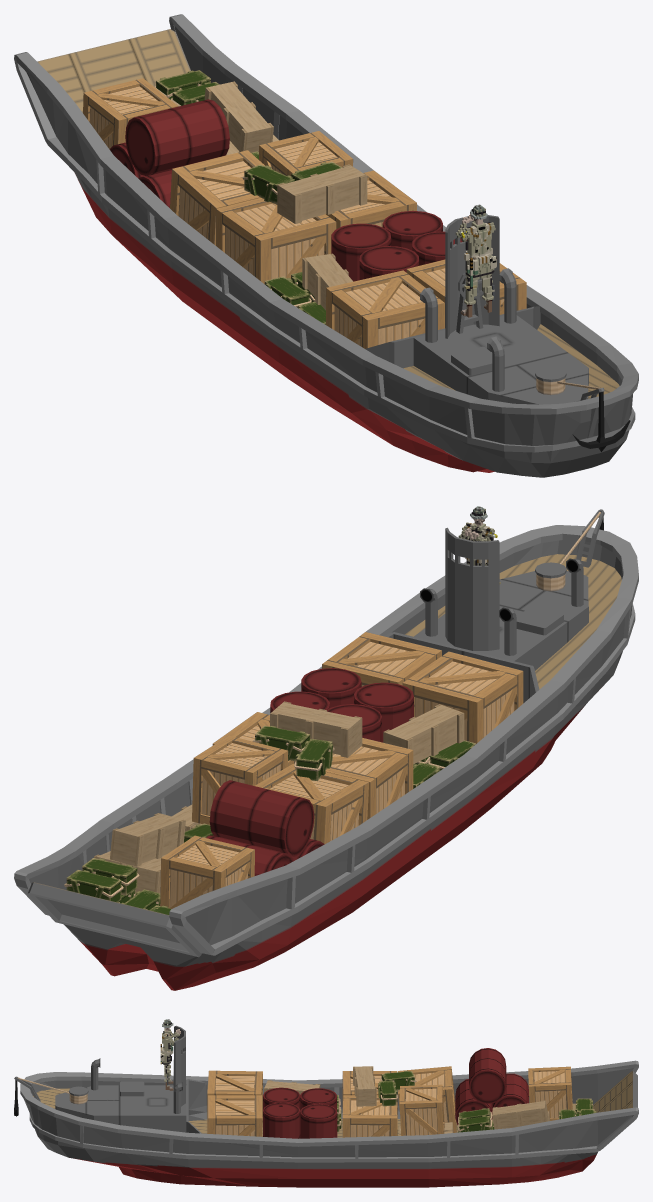
Rendered from armory_daihatsu.glb.
The picture shows the model from 3 angles, top to bottom: view 1: azimuth 30°, elevation 25°; view 2: azimuth 150°, elevation 25°; view 3: azimuth 270°, elevation 25°; orthographic projection. The views are drawn at different scales.
Visible parts, largest first — view 1: 00_chassis_daihatsu_cargo_hull.mesh, crew_soldier_SLOT_00_DRIVER; view 2: 00_chassis_daihatsu_cargo_hull.mesh, crew_soldier_SLOT_00_DRIVER; view 3: 00_chassis_daihatsu_cargo_hull.mesh, crew_soldier_SLOT_00_DRIVER.
Part boxes in pixels (x1,y1,x2,y2): 00_chassis_daihatsu_cargo_hull.mesh: (14, 14, 638, 477); crew_soldier_SLOT_00_DRIVER: (455, 204, 496, 317); 00_chassis_daihatsu_cargo_hull.mesh: (14, 509, 638, 990); crew_soldier_SLOT_00_DRIVER: (458, 506, 500, 584); 00_chassis_daihatsu_cargo_hull.mesh: (14, 1025, 638, 1187); crew_soldier_SLOT_00_DRIVER: (160, 1019, 180, 1090).
Size of the model in its own units: 3.6 by 4.07 by 15.22.
Materials: 36 (1 with a texture image).
